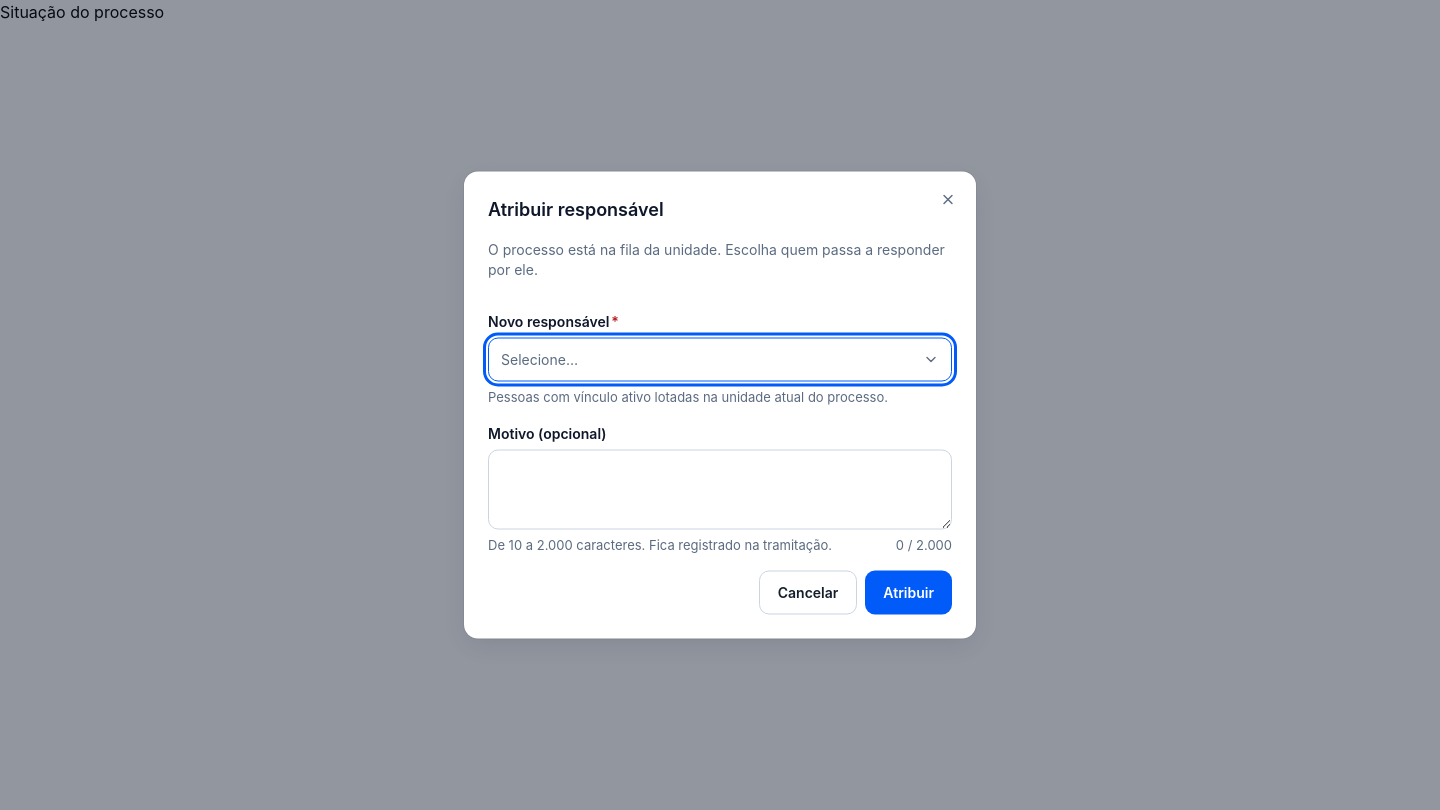
it: SCR-115 · Diálogo "Atribuir responsável" (US-050) › [Validação] sem escolha: erro no seletor
The image size is (1440, 810).
Click the button "Atribuir": point(909, 592) [865, 570, 952, 614]
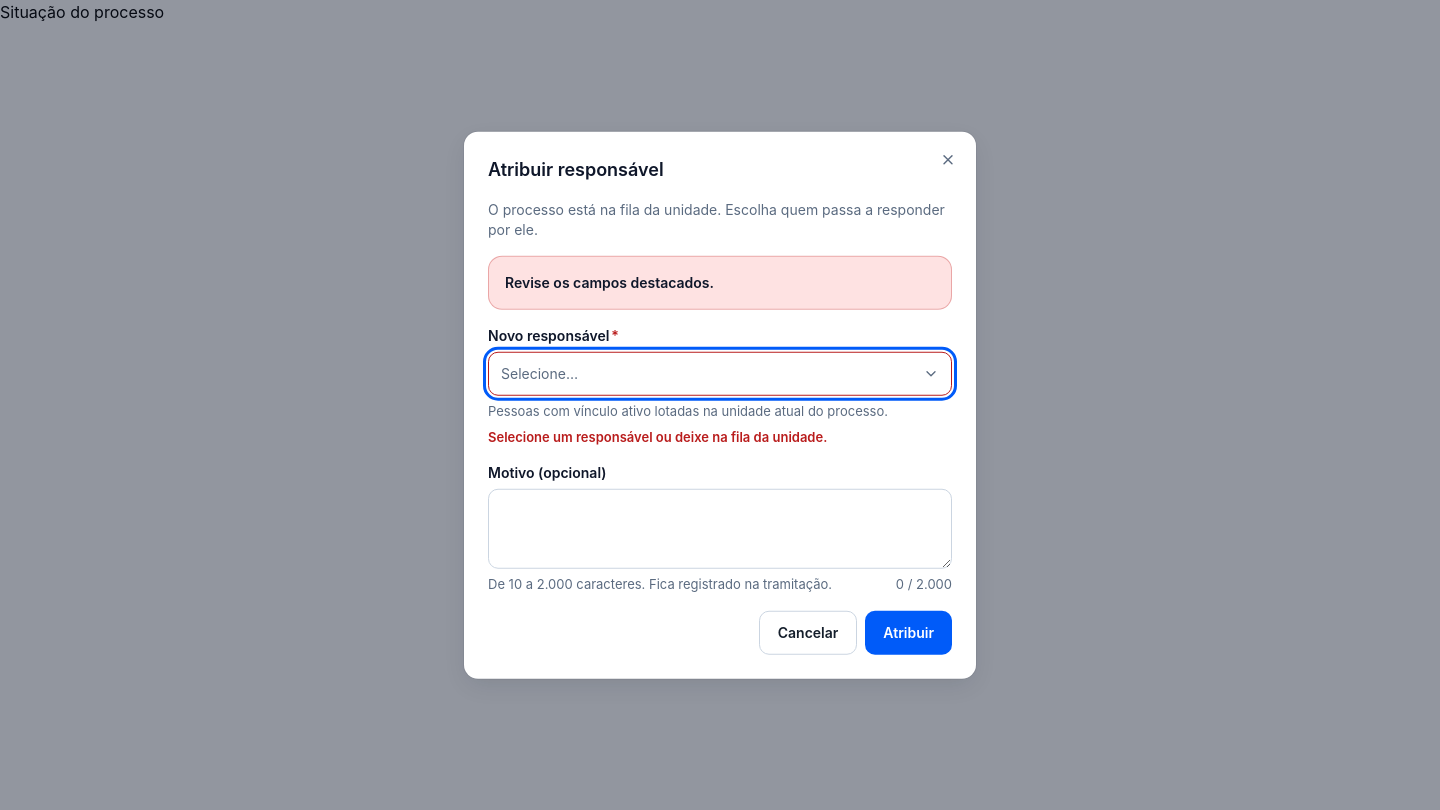
Check: the text "Selecione um responsável ou deixe na fila da unidade." is shown, box [488, 428, 827, 444]
